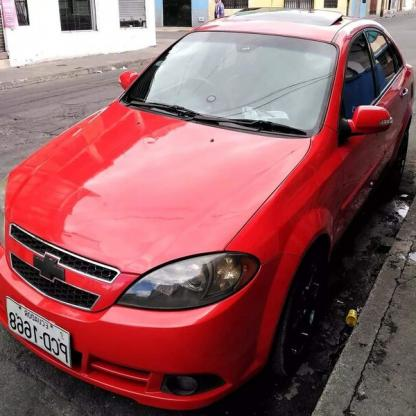Placa: (0, 289, 76, 371)
